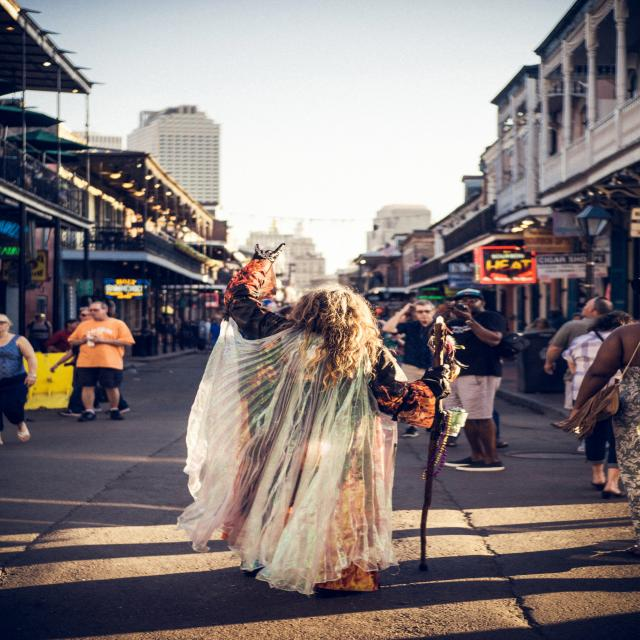adult: (224, 243, 447, 589), (445, 288, 507, 471), (68, 300, 135, 421), (544, 298, 614, 374), (0, 314, 40, 446), (383, 299, 445, 382)
